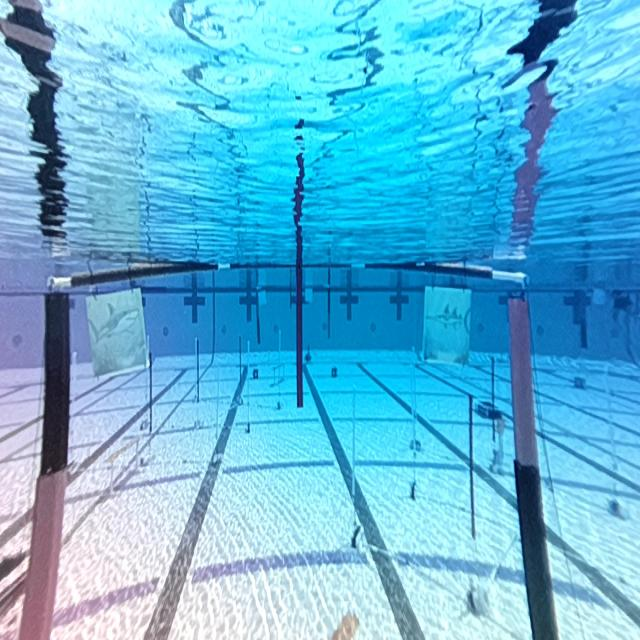pointed_nose: (421, 282, 472, 361)
round_nose: (86, 292, 146, 370)
